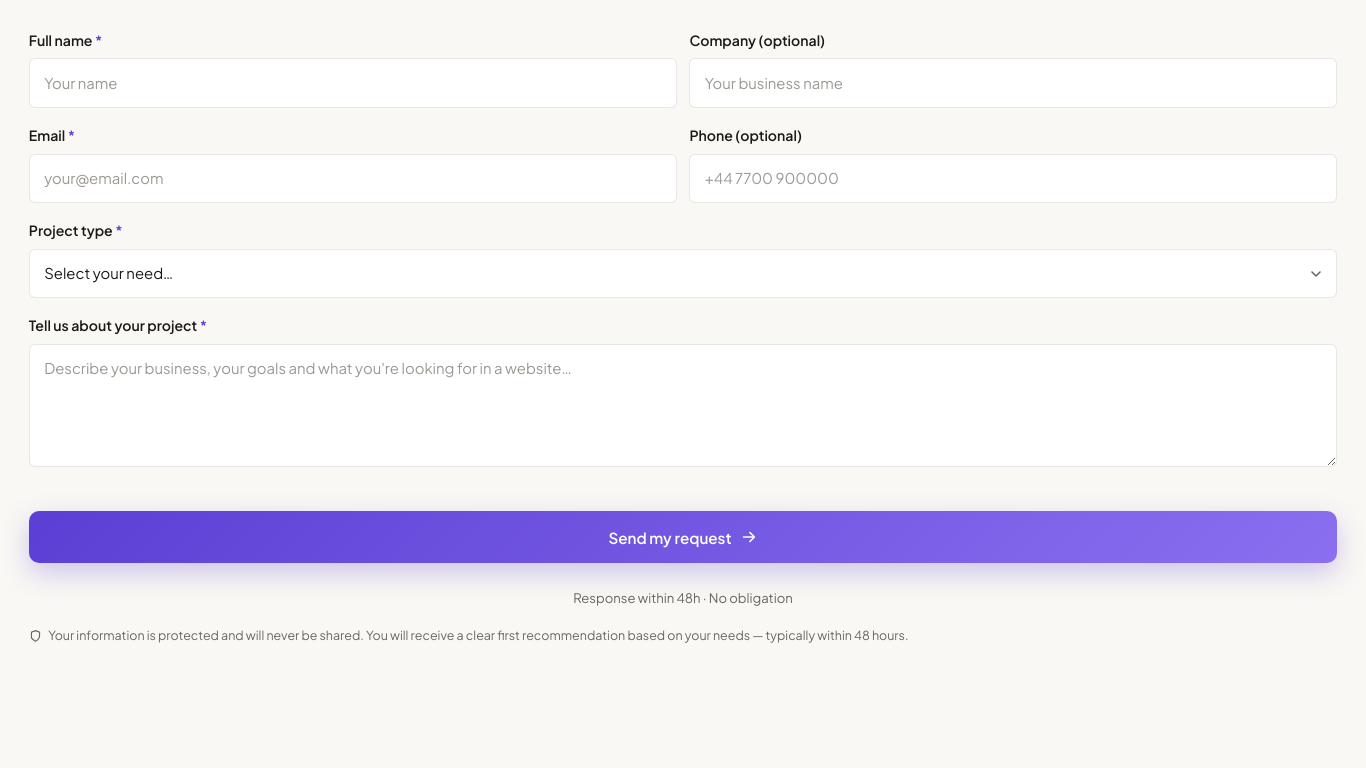
Test case: ContactForm › shows a locale-appropriate message on network failure
The width and height of the screenshot is (1366, 768).
Type "Alice" into the field with placeholder "Your name" at (353, 83), box x1=29 y1=58 x2=677 y2=108
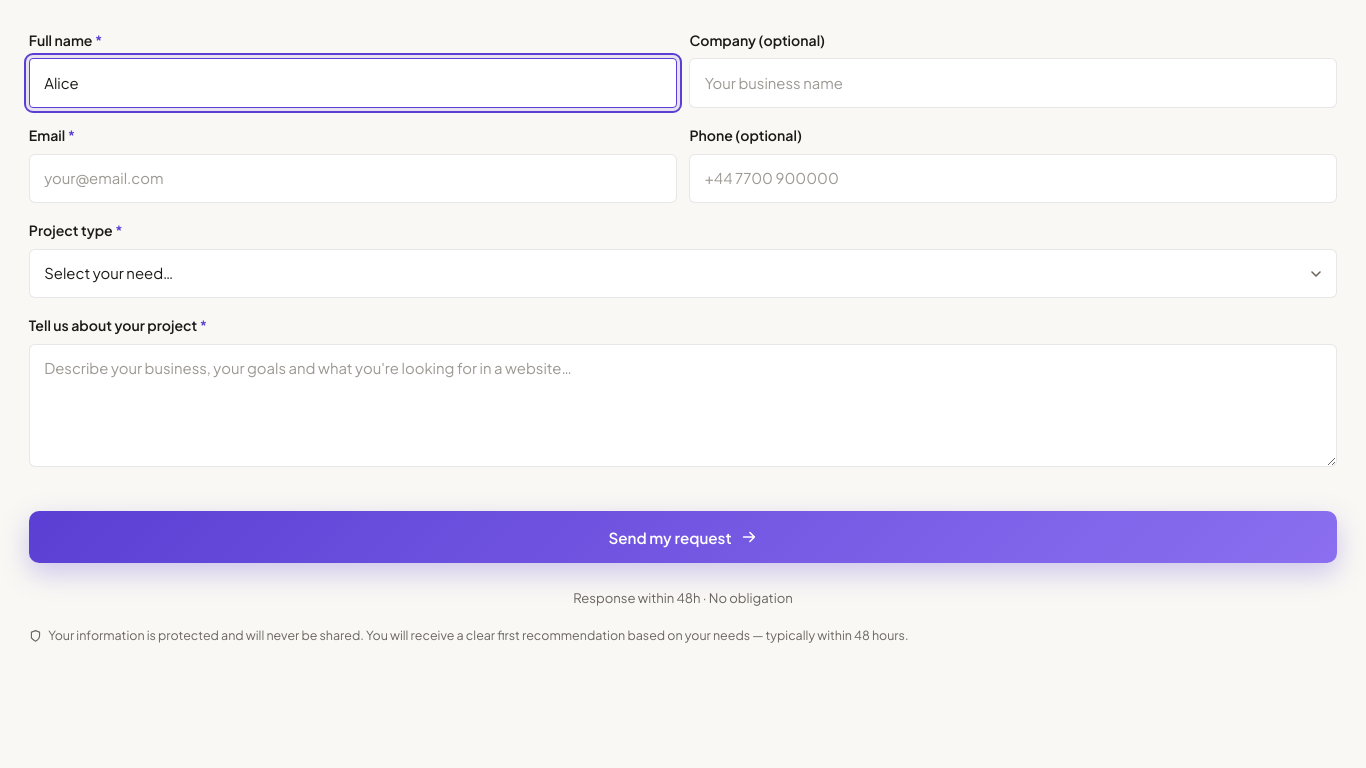
Type "alice@test.com" into the field with placeholder "your@email.com" at (353, 178), box x1=29 y1=154 x2=677 y2=203
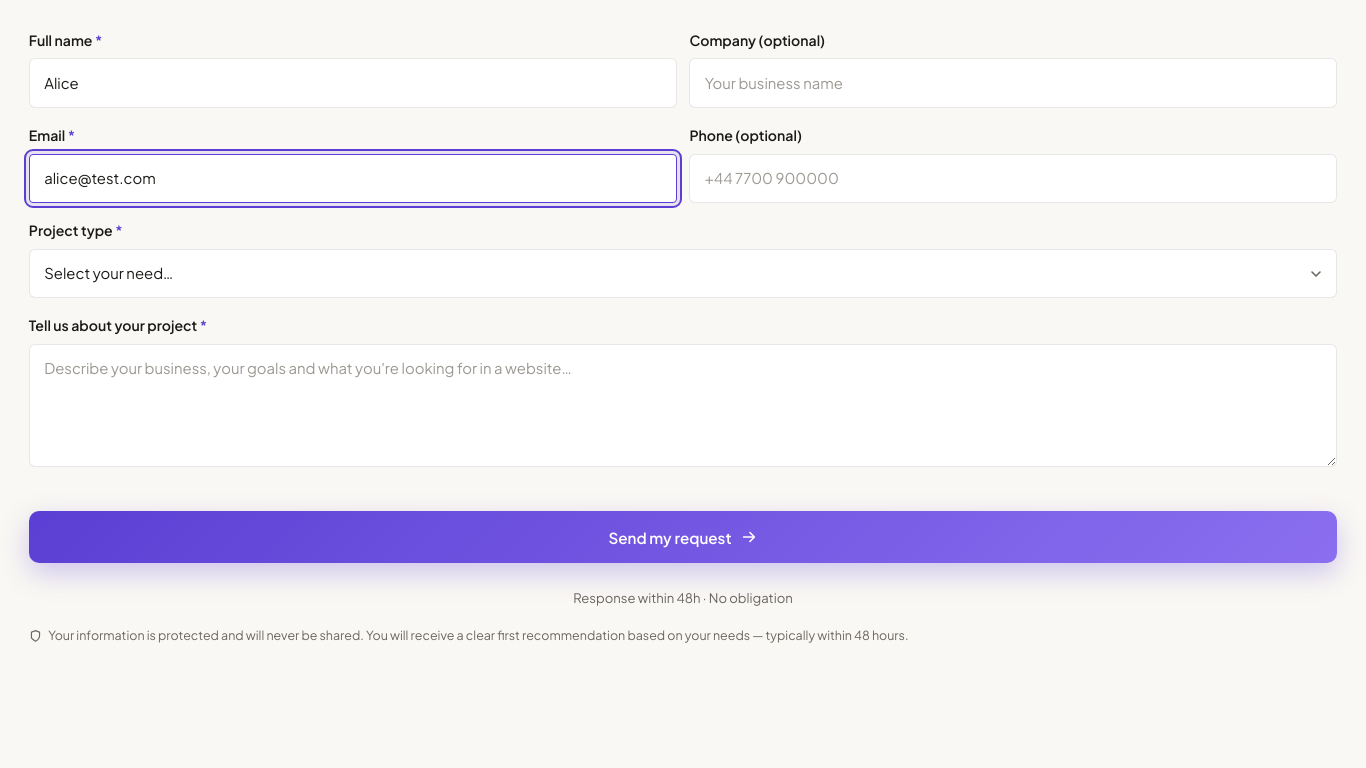
Type "Un message de test suffisamment long." into the text box with placeholder "Describe your business, your goals and what you're looking for in a website…" at (683, 406), box x1=29 y1=344 x2=1337 y2=467
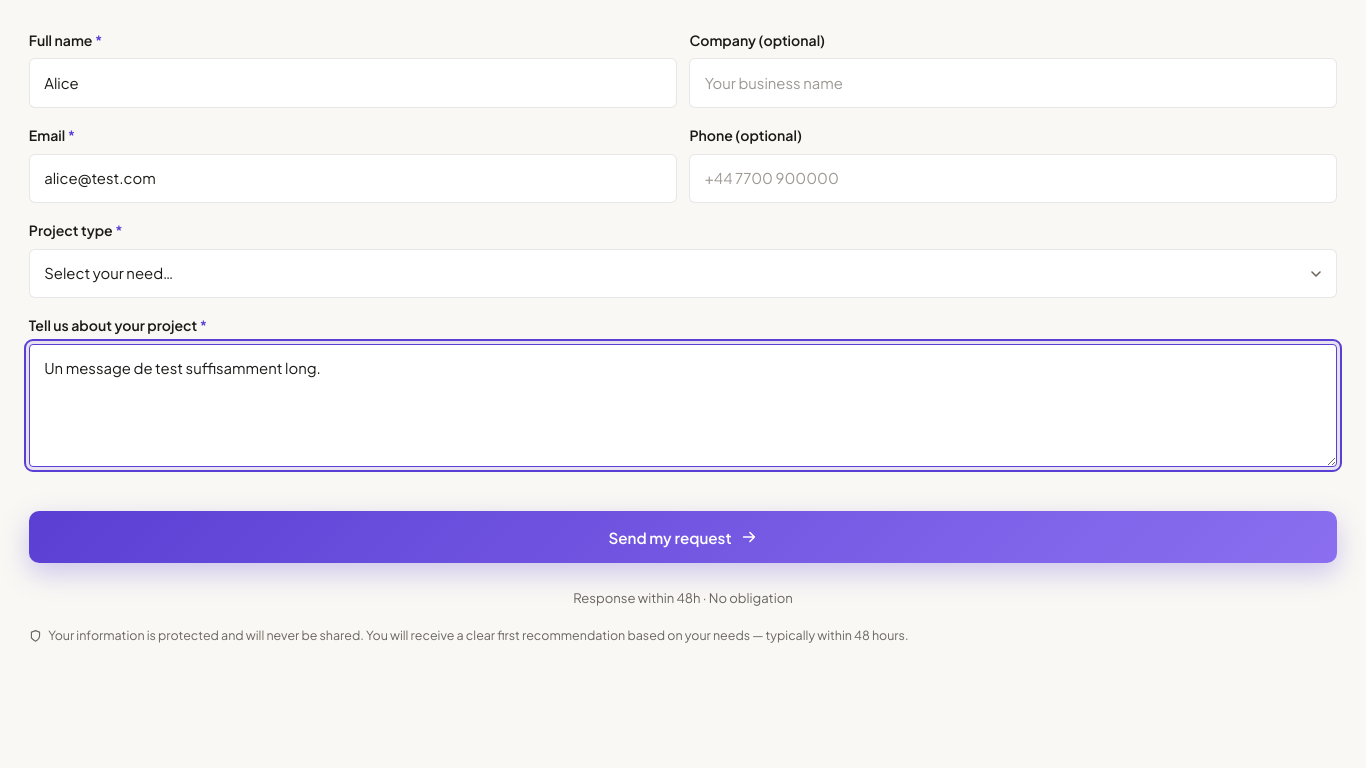
Select "New website" in the dropdown at (683, 274), box x1=29 y1=249 x2=1337 y2=298
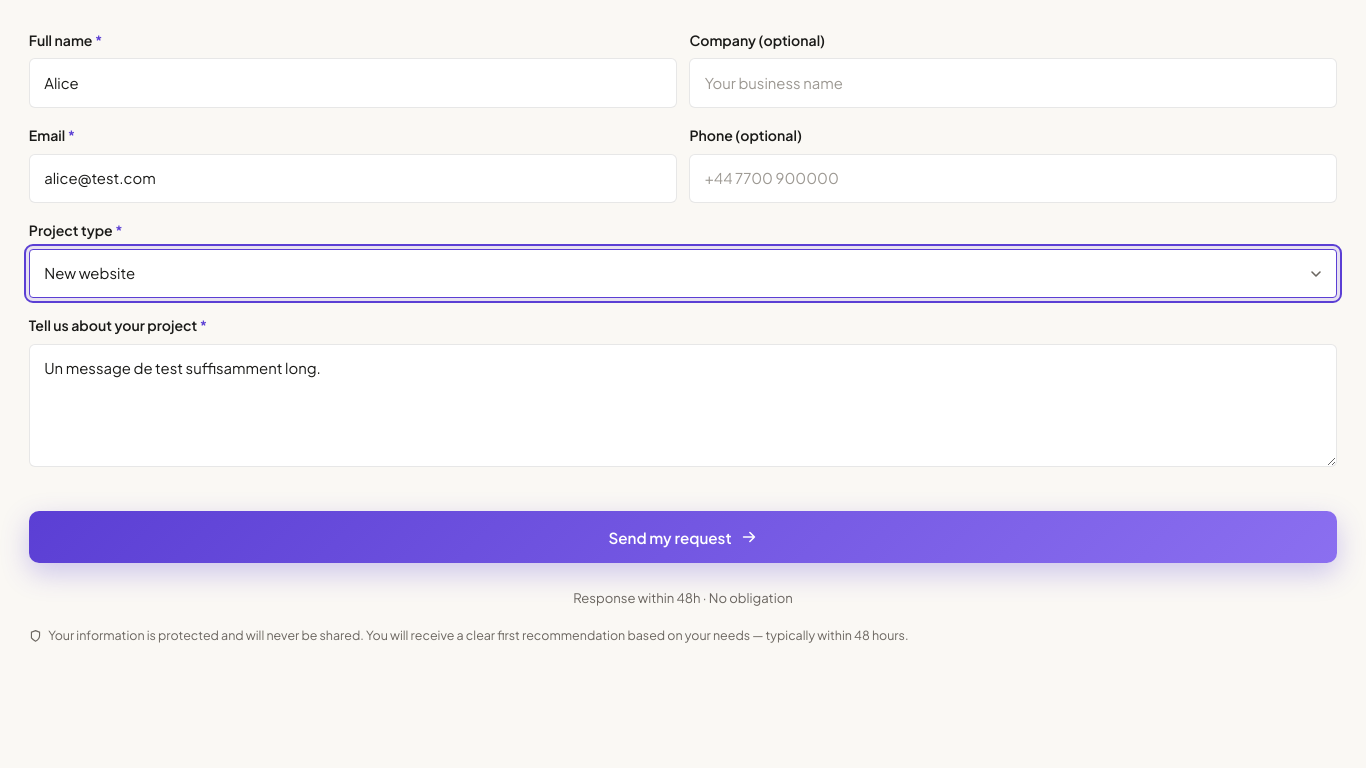
Click the button "Send my request" at (683, 537), box x1=29 y1=511 x2=1337 y2=563
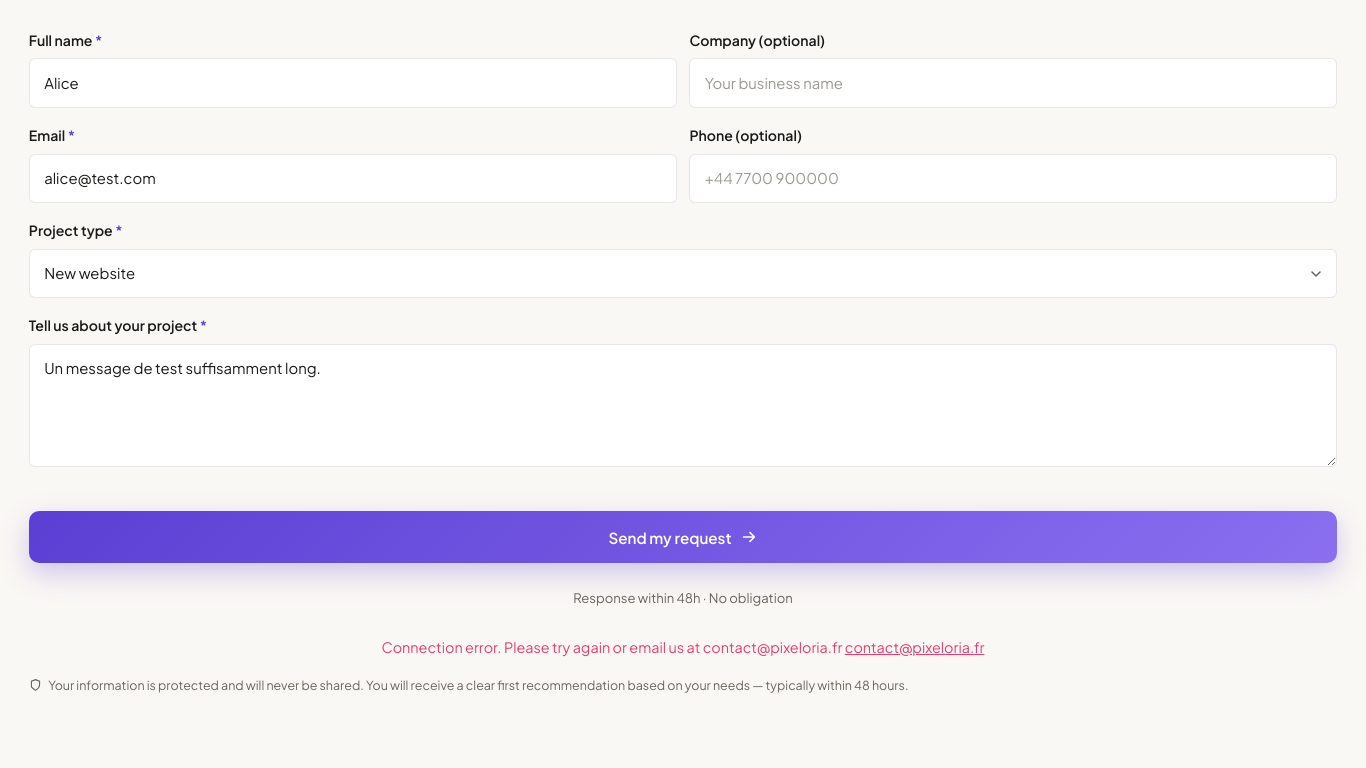
Expected: the message shows "Connection error", x1=382 y1=638 x2=842 y2=656
